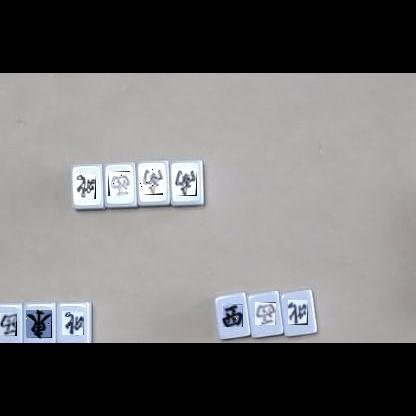1z: (26, 310, 52, 338)
2z: (140, 167, 163, 195), (175, 169, 197, 196)
3z: (108, 171, 130, 196), (255, 302, 276, 325), (222, 304, 243, 327), (0, 313, 17, 336)
4z: (74, 173, 96, 199), (62, 311, 84, 335), (288, 300, 308, 325)
